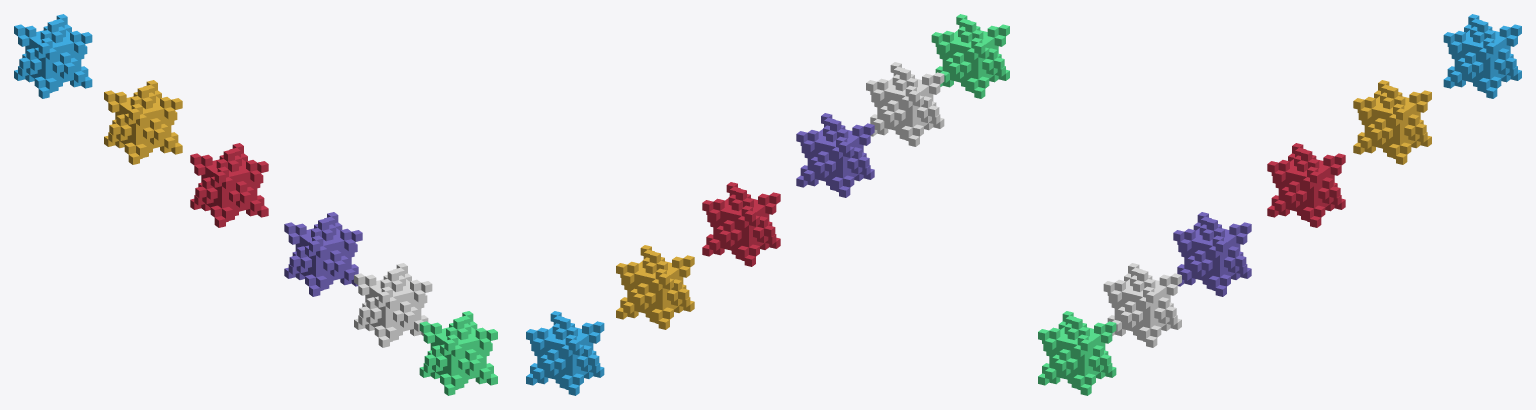
File: starcandies.dae
3 renders of one model, left to right at view 1: azimuth 30°, elevation 25°; view 2: azimuth 150°, elevation 25°; view 3: azimuth 330°, elevation 25°, orthographic.
Visible parts, largest first — view 1: starcandy_yellow, starcandy_red, starcandy_green, starcandy_blue, starcandy_purple, starcandy_white; view 2: starcandy_yellow, starcandy_red, starcandy_purple, starcandy_blue, starcandy_white, starcandy_green; view 3: starcandy_yellow, starcandy_red, starcandy_blue, starcandy_green, starcandy_purple, starcandy_white.
Boxes of the visible parts, <box> form: starcandy_yellow: <box>104,80,182,164</box>; starcandy_red: <box>190,143,268,227</box>; starcandy_green: <box>419,311,497,395</box>; starcandy_blue: <box>14,14,92,98</box>; starcandy_purple: <box>284,212,362,296</box>; starcandy_white: <box>354,263,432,347</box>; starcandy_yellow: <box>616,245,694,329</box>; starcandy_red: <box>702,182,780,266</box>; starcandy_purple: <box>796,113,874,197</box>; starcandy_blue: <box>526,311,604,395</box>; starcandy_white: <box>866,62,944,146</box>; starcandy_green: <box>931,14,1009,98</box>; starcandy_yellow: <box>1353,80,1431,164</box>; starcandy_red: <box>1267,143,1345,227</box>; starcandy_blue: <box>1443,14,1521,98</box>; starcandy_green: <box>1038,311,1116,395</box>; starcandy_purple: <box>1173,212,1251,296</box>; starcandy_white: <box>1103,263,1181,347</box>.
Bounding box in the file's own units: 9 × 9 × 108.
1 material, 1 textured.
